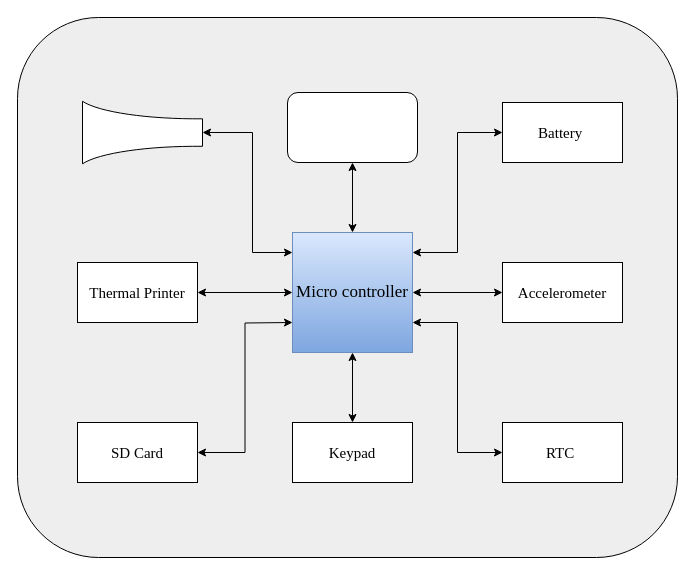
Image size: 695x575. Some labels were removed from this diagram. Here are the shapes that lost their labels. From the top down, the box of each, then its label:
(82, 100, 202, 164): Radar Sensor
(286, 92, 418, 162): Display
